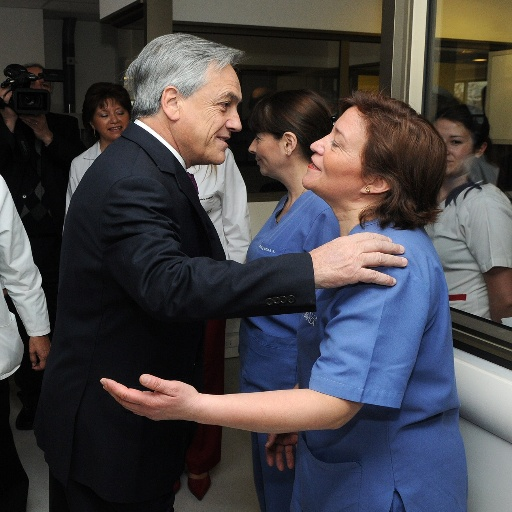hand: (81, 371, 225, 431), (311, 230, 408, 289), (263, 433, 300, 473), (27, 336, 52, 371), (0, 87, 13, 117)
